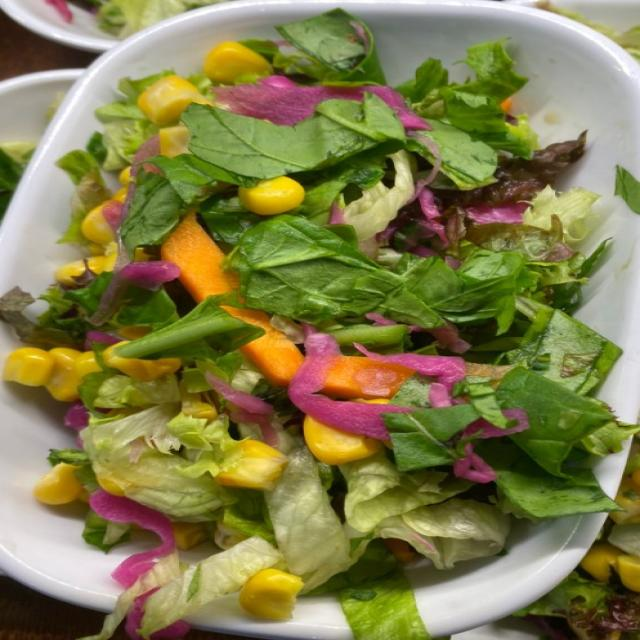yan_yemek: (2, 0, 637, 640)
